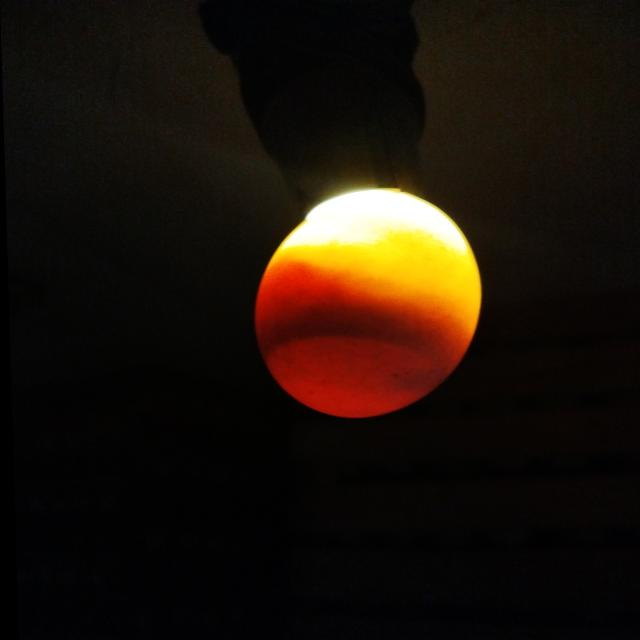Area Infectada: (253, 304, 449, 393)
